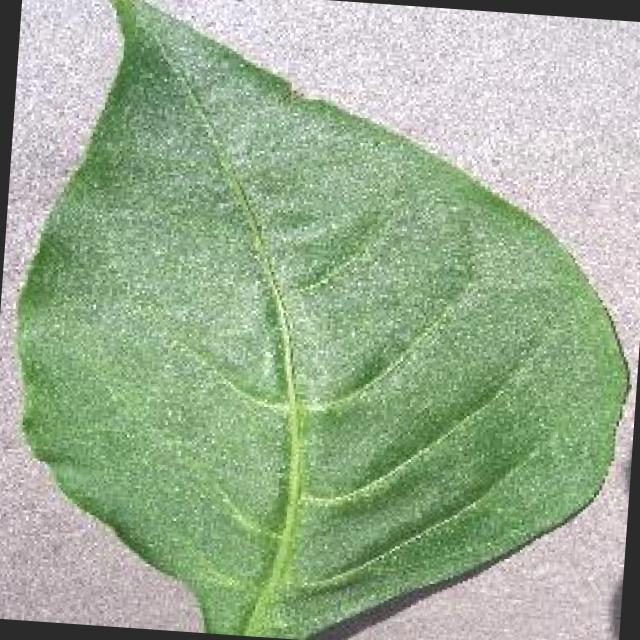Leaf: (12, 16, 634, 597)
